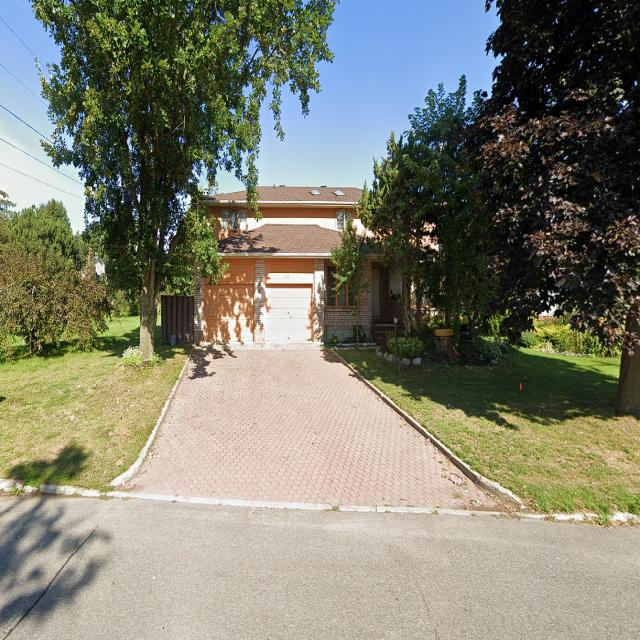Door: (368, 262, 405, 333)
curb: (3, 480, 636, 527)
obstacle: (136, 282, 159, 366)
walkways: (114, 350, 517, 507)
